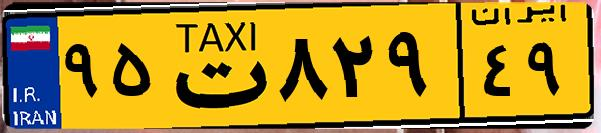2: (330, 28, 385, 110)
4: (475, 38, 525, 113)
5: (110, 28, 158, 98)
8: (270, 28, 330, 110)
9: (385, 28, 445, 110), (57, 26, 110, 100), (525, 38, 570, 115)
ت: (158, 12, 270, 120)
